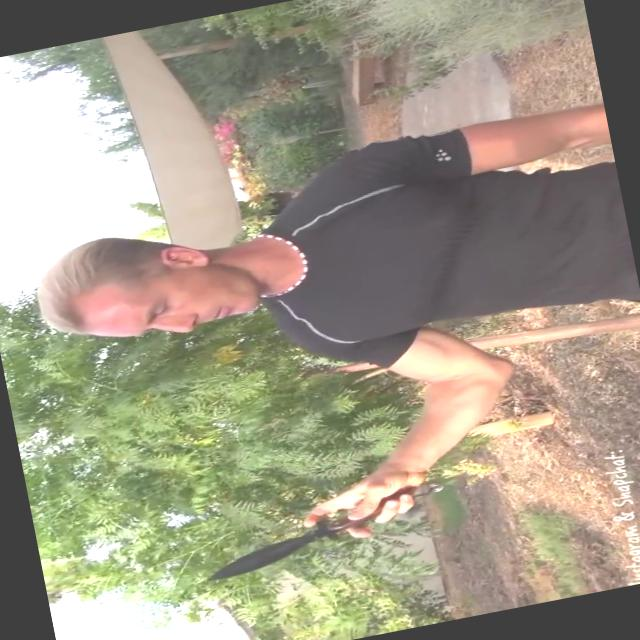knife: (163, 468, 444, 594)
